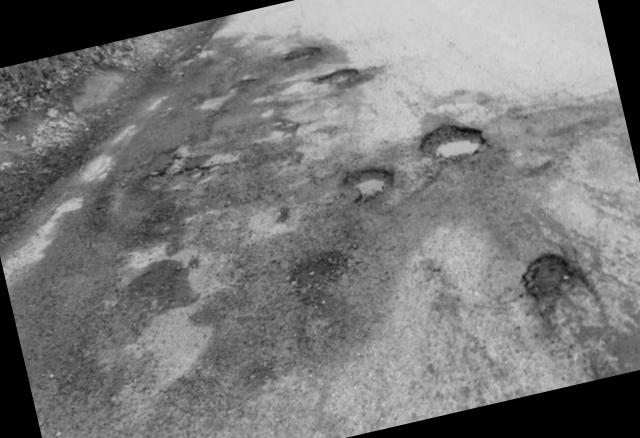Pothole: (501, 231, 640, 394), (144, 126, 234, 210), (412, 101, 498, 176), (307, 54, 384, 116), (343, 159, 407, 213), (283, 39, 328, 79)
